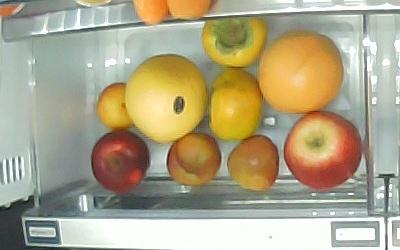apple: (283, 111, 361, 190), (90, 131, 151, 193)
grapefruit: (123, 53, 207, 143), (258, 30, 344, 114)
persimmon: (207, 68, 263, 143), (200, 17, 266, 68), (97, 82, 134, 131)
prune: (164, 132, 221, 186), (226, 135, 279, 189)
